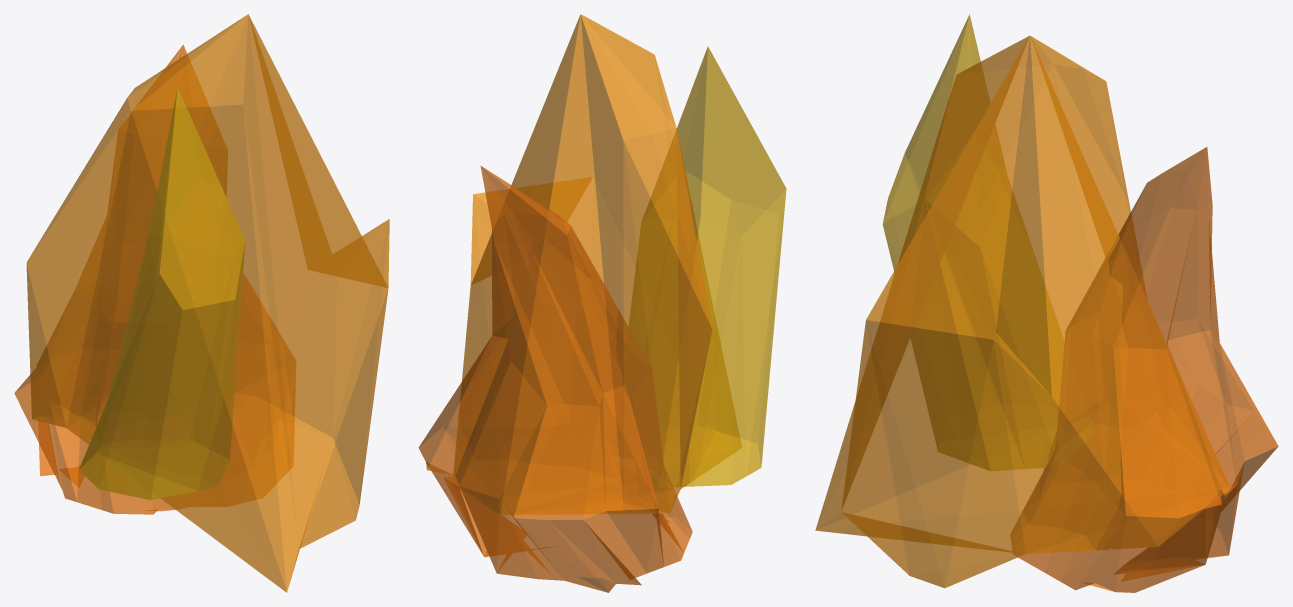
The model's file is fireSec1.dae.
The picture shows the model from 3 angles, left to right: view 1: azimuth 30°, elevation 25°; view 2: azimuth 150°, elevation 25°; view 3: azimuth 270°, elevation 25°; orthographic projection. The views are drawn at different scales.
Visible parts, largest first — view 1: midFlame, dFlame1, yFlame1; view 2: midFlame, dFlame1, yFlame1; view 3: midFlame, dFlame1, yFlame1.
Part boxes in pixels (x1,y1,x2,y2): midFlame: (26, 14, 389, 592); dFlame1: (14, 44, 295, 514); yFlame1: (79, 87, 245, 499); midFlame: (453, 14, 741, 514); dFlame1: (418, 166, 692, 592); yFlame1: (613, 46, 786, 487); midFlame: (815, 35, 1230, 588); dFlame1: (1010, 147, 1278, 592); yFlame1: (882, 14, 1095, 470).
Bounding box in the file's own units: 0.9831 × 1.22 × 1.57.
